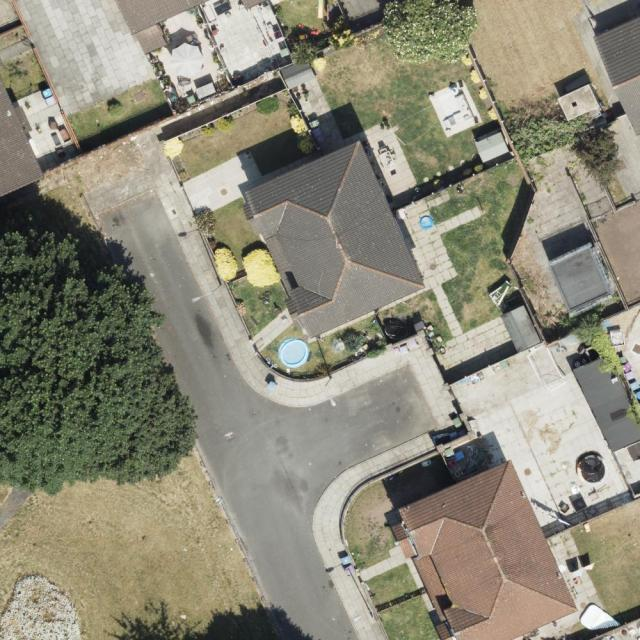roof: (241, 136, 425, 343), (389, 457, 575, 640), (593, 16, 640, 140), (0, 72, 43, 195)
